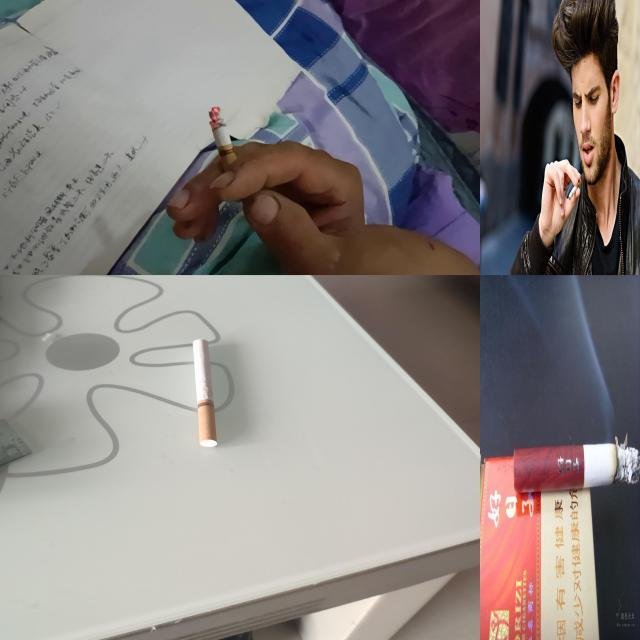smoke: (513, 443, 640, 493), (192, 338, 222, 447), (209, 105, 244, 186), (568, 177, 582, 200)
